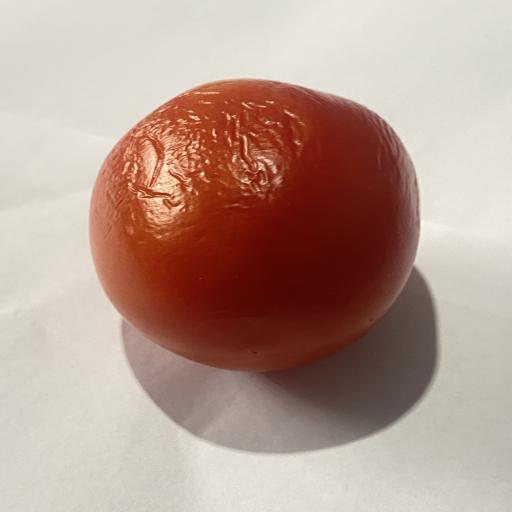spoiled: (90, 79, 419, 371)
